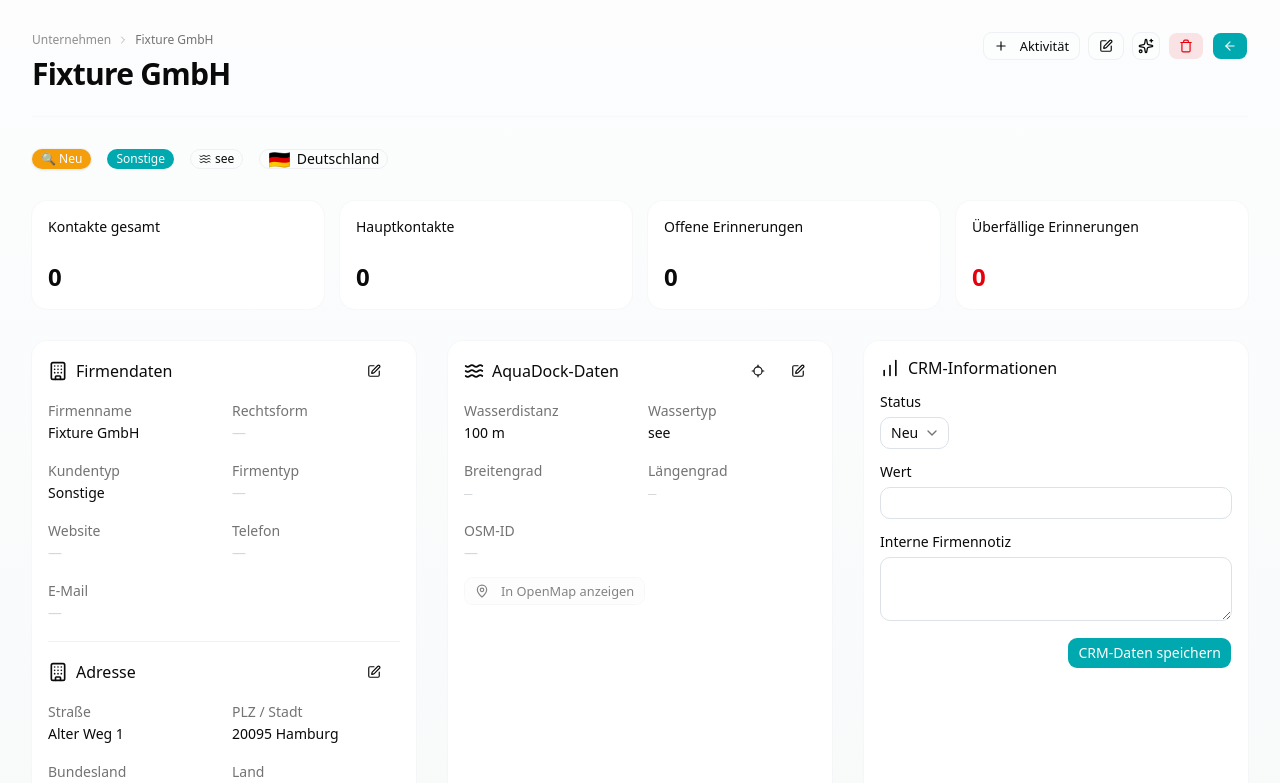
Scenario: CompanyDetailClient refresh after inline edits › updates Firmendaten card body after inline save (no full page reload)
Expected: the heading "Fixture GmbH" is shown, [32,56,230,92]
Click the button without text in the row of "Firmendaten" at point(378, 371), box [356,357,400,385]
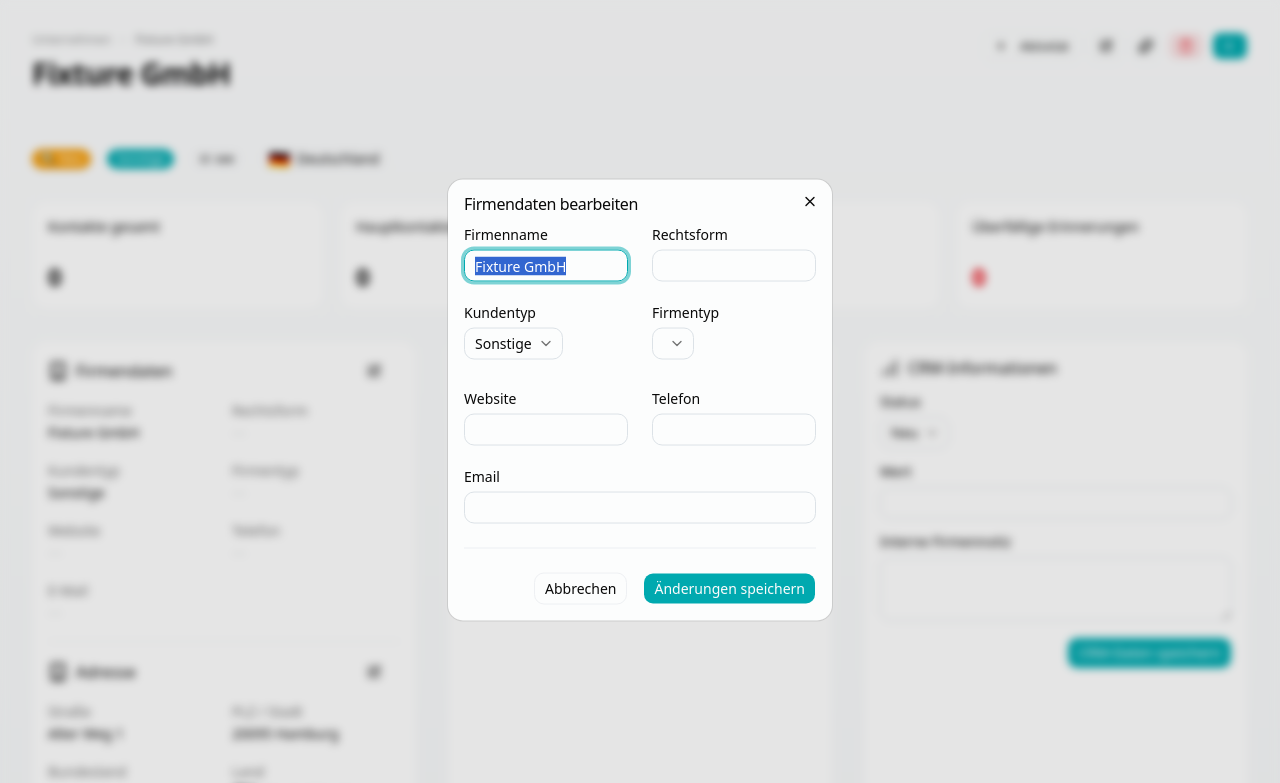
Result: the dialog "Firmendaten bearbeiten" is shown at [448,180,832,620]
Replace the text in the field labelled "Firmenname" with "Neuer Firmenname GmbH" at point(546, 266), box [464,250,628,282]
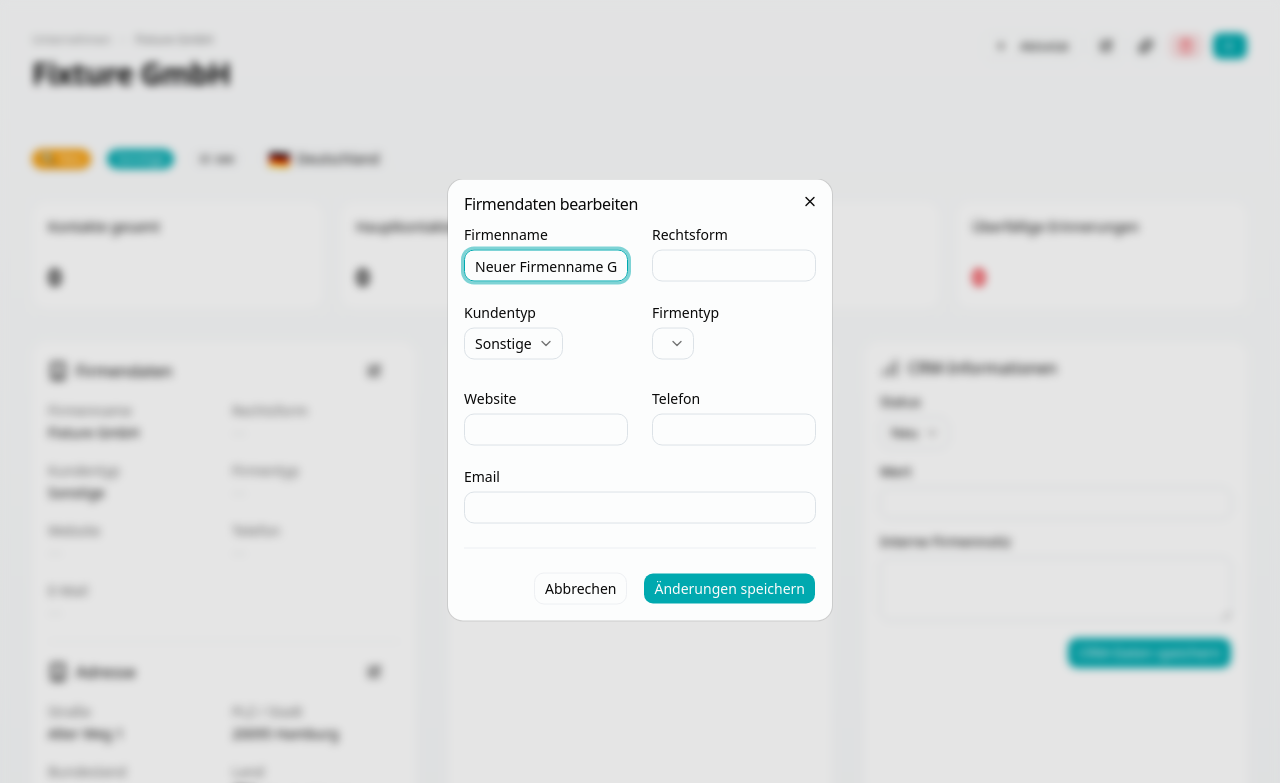
Click the button "Änderungen speichern" at point(730, 588), box [644,572,816,604]
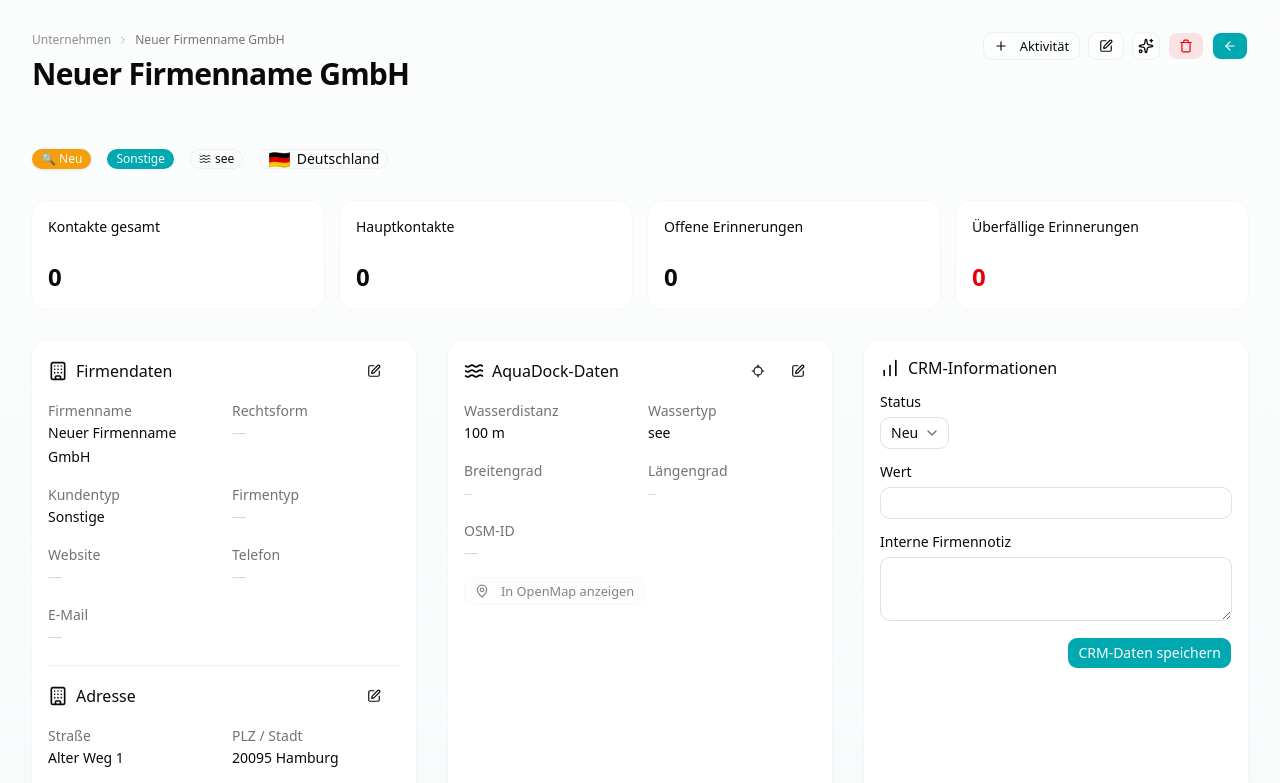
Result: the text "Neuer Firmenname GmbH" below "Rechtsform" is shown at [48,423,176,466]
